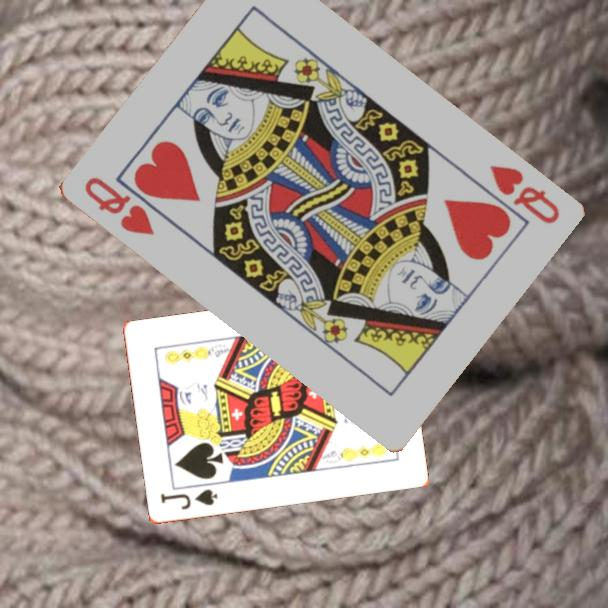h12: (80, 173, 157, 239), (485, 161, 562, 227)
s11: (157, 486, 220, 513)
